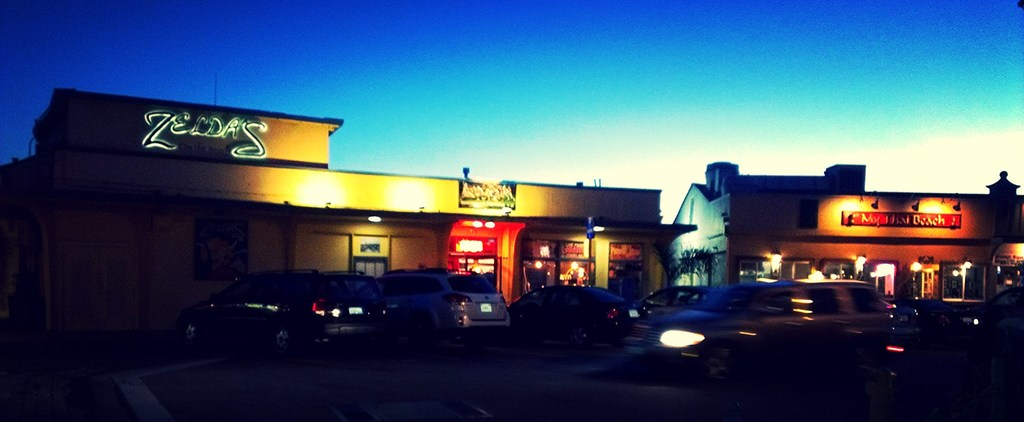Car: (633, 280, 899, 375), (162, 271, 404, 350), (371, 267, 506, 342), (502, 278, 637, 346)
